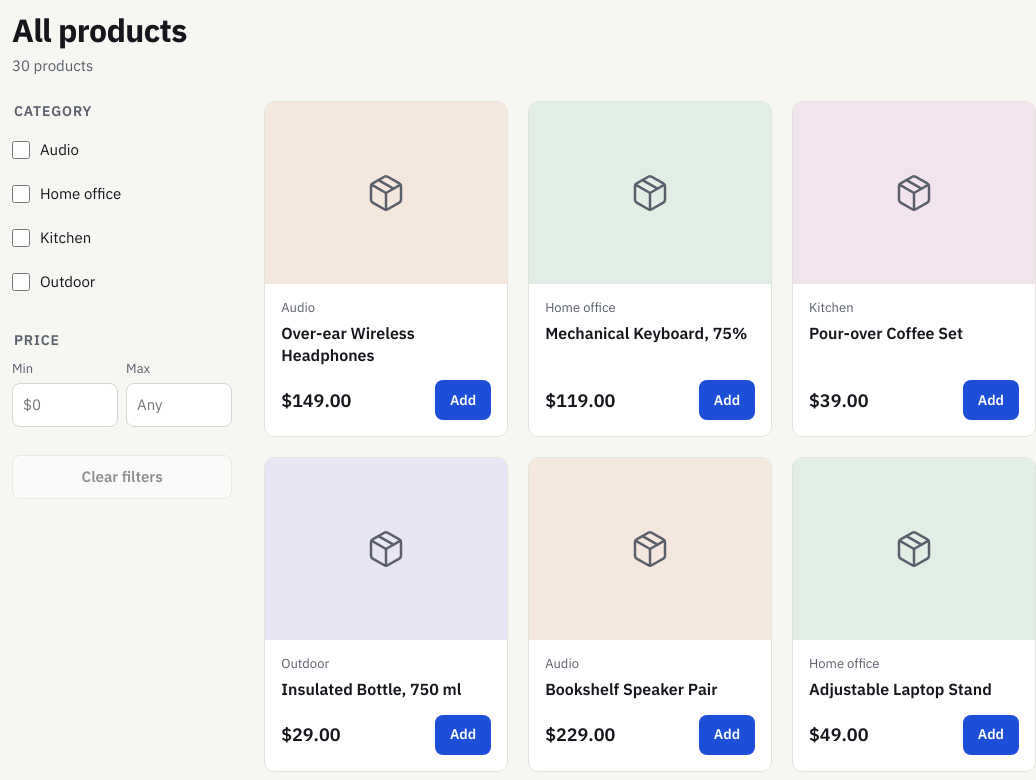
Test case: CatalogPage › filters by category and keeps the filter in the URL
The image size is (1036, 780).
Click the checkbox labelled "Kitchen": [21, 238] box top-left (12, 229), bottom-right (30, 247)
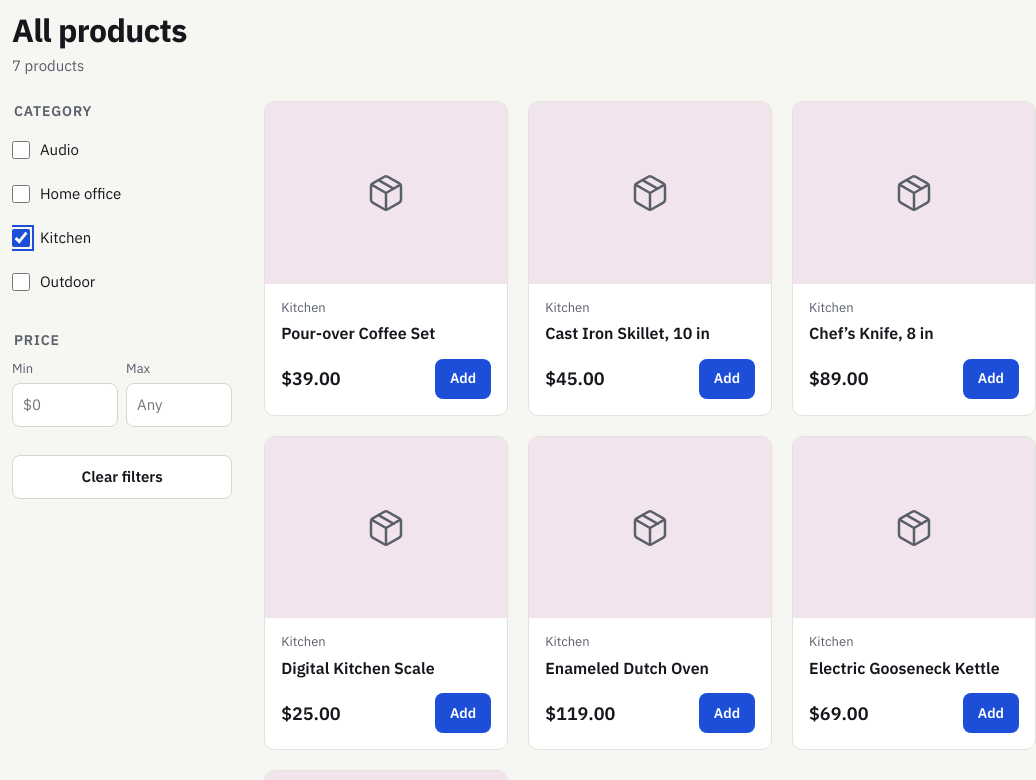
Now the text "7 products" is shown, box top-left (12, 56), bottom-right (84, 75)
